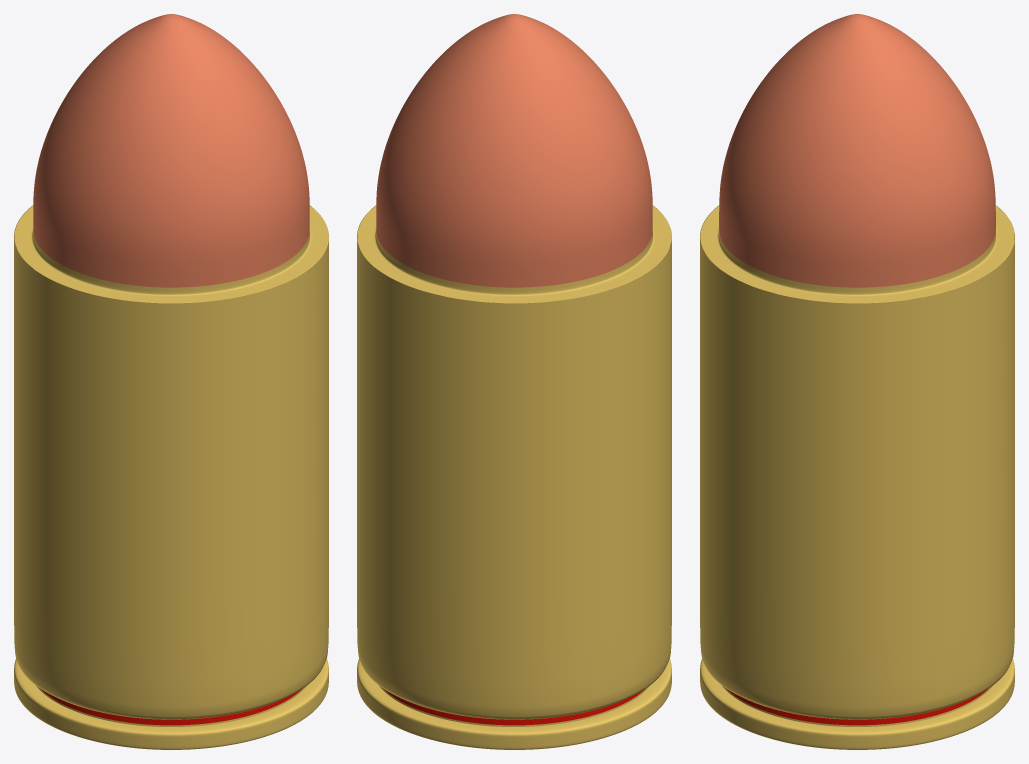
Rendered from mermi_emir.fbx.
3 views of the same model, side by side, from view 1: azimuth 30°, elevation 25°; view 2: azimuth 150°, elevation 25°; view 3: azimuth 270°, elevation 25° (orthographic).
Visible parts, largest first — view 1: Cylinder; view 2: Cylinder; view 3: Cylinder.
Part boxes in pixels (<box>): Cylinder: <box>14,14,328,749</box>; Cylinder: <box>357,14,671,749</box>; Cylinder: <box>700,14,1014,749</box>.
Bounding box in the file's own units: 199 × 466 × 199.
